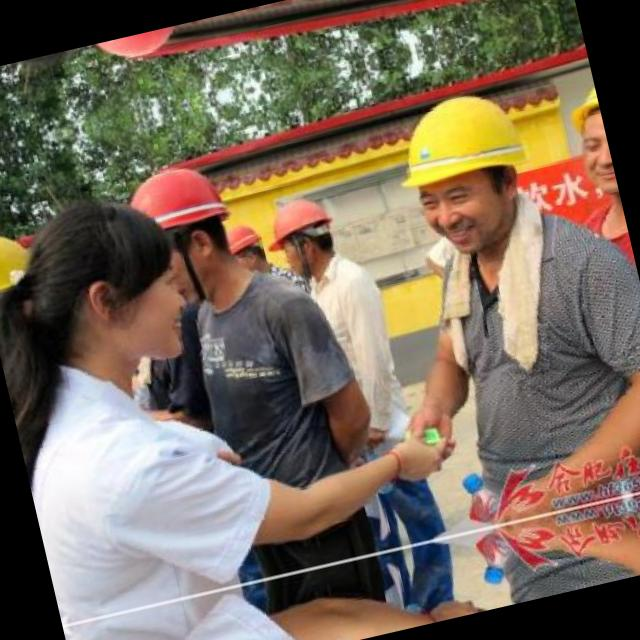helmet: (379, 82, 544, 262), (116, 150, 255, 312), (258, 190, 342, 286), (556, 78, 616, 204), (216, 215, 280, 282)
